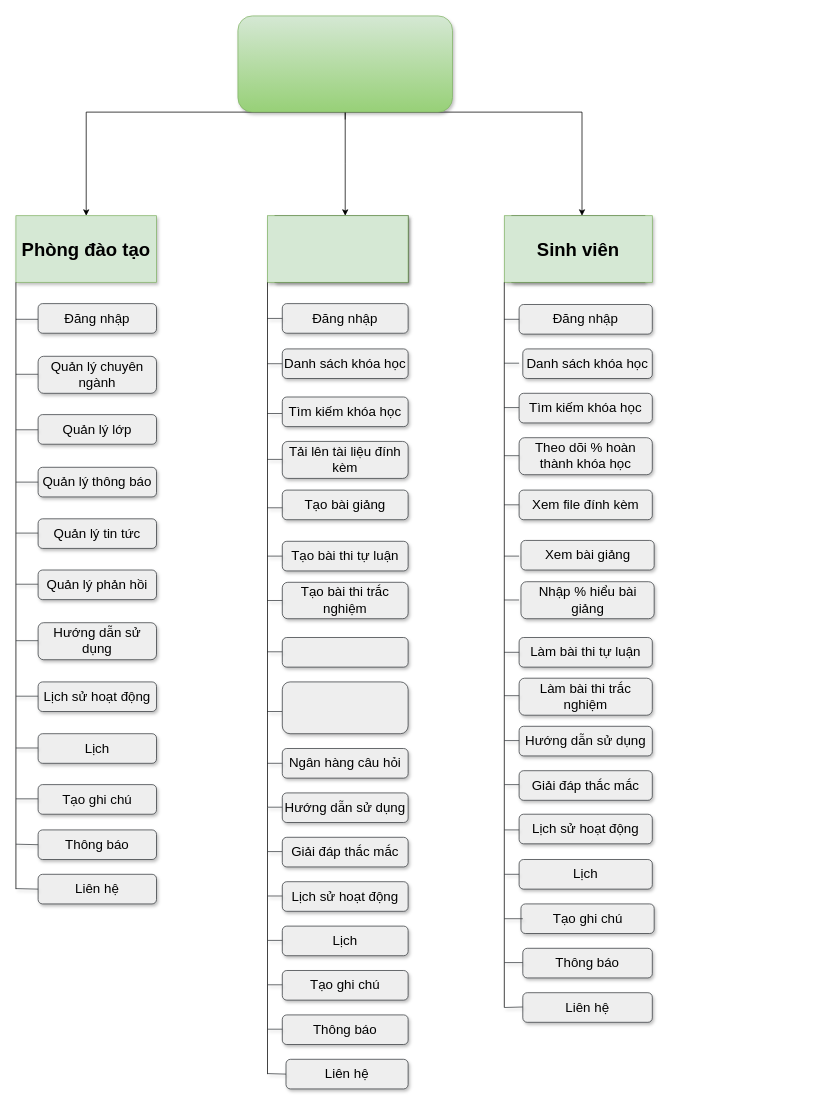
The diagram is 838 pixels wide and 1107 high, and some of its shapes have lost their labels. The shapes that lost their labels are listed below. From the top down, each one's centre as x and y in pixels, then its label:
(x=345, y=64): LMS
(x=338, y=249): Giảng viên
(x=346, y=653): Chấm điểm bài thi
(x=346, y=708): Theo dõi tiến độ buổi học của sinh viên
